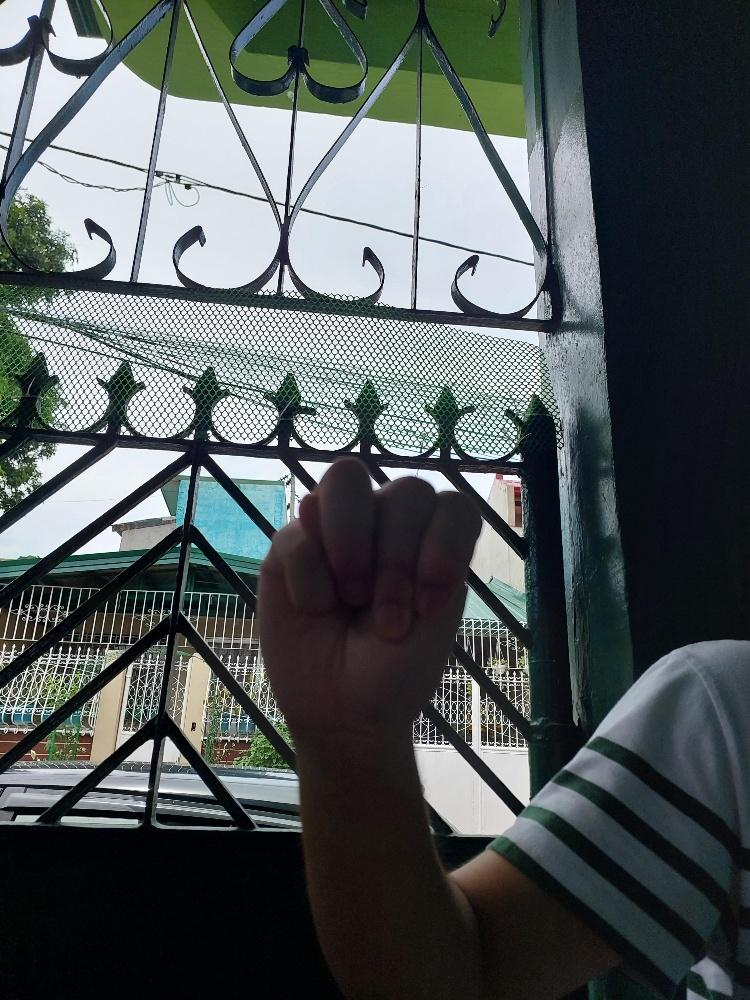m: (250, 453, 485, 739)
